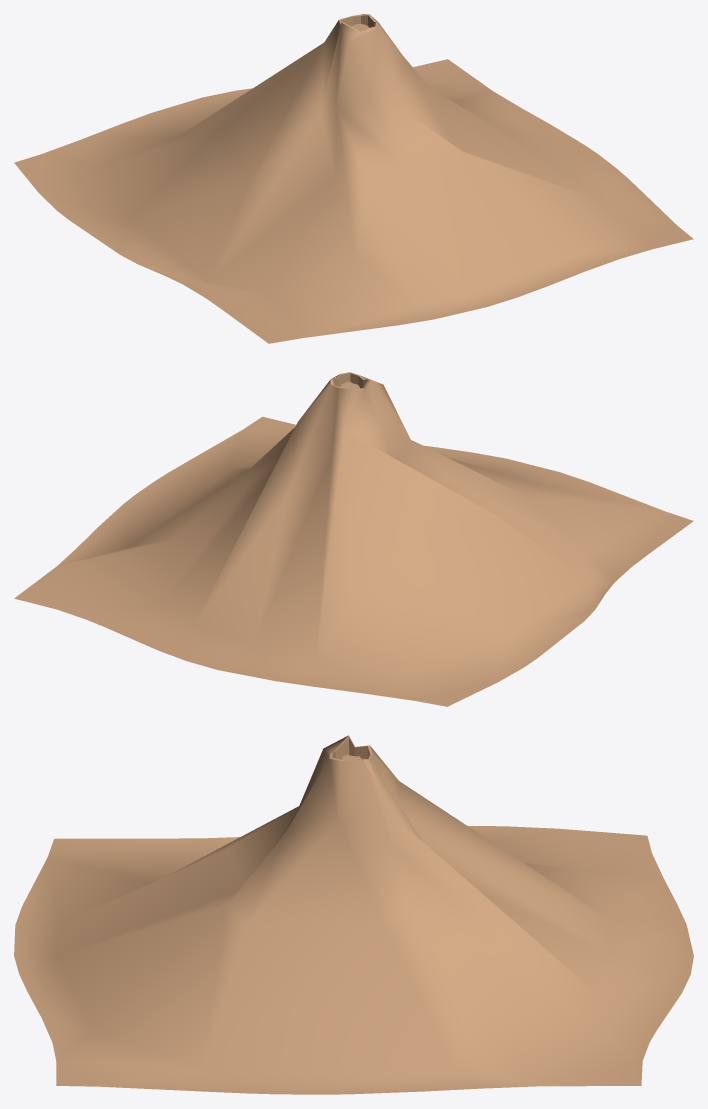
Rendered from Volcano.fbx.
The picture shows the model from 3 angles, top to bottom: view 1: azimuth 30°, elevation 25°; view 2: azimuth 150°, elevation 25°; view 3: azimuth 270°, elevation 25°; orthographic projection. The views are drawn at different scales.
Visible parts, largest first — view 1: pPlane1; view 2: pPlane1; view 3: pPlane1.
Part boxes in pixels (bbox=[...]): pPlane1: bbox=[14, 14, 693, 343]; pPlane1: bbox=[14, 372, 693, 706]; pPlane1: bbox=[14, 735, 693, 1094].
Bounding box in the file's own units: 937 × 361 × 1000.
